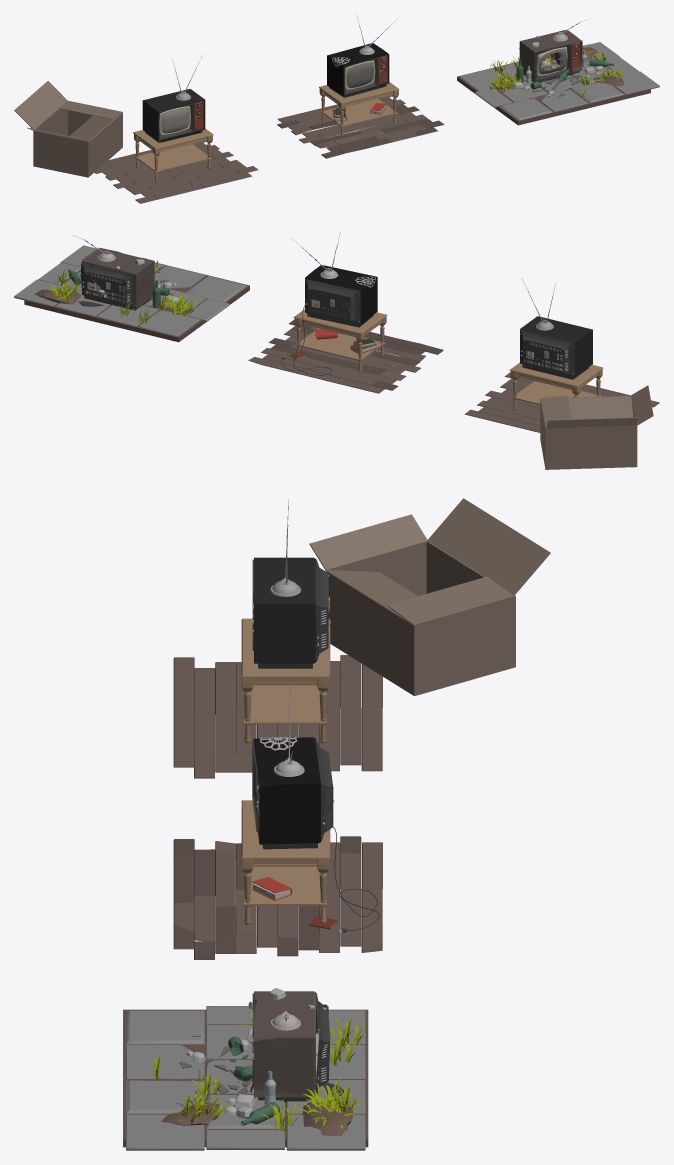
File: tvs.fbx
3 views of the same model, one above another, from view 1: azimuth 30°, elevation 25°; view 2: azimuth 150°, elevation 25°; view 3: azimuth 270°, elevation 25° (orthographic). The views are drawn at different scales.
Visible parts, largest first — view 1: polySurface68, pCube128, pCube240, polySurface27, pPlane1, polySurface63, polySurface91, pCube241, pCube87, pCube263, pCube265, pCube262 (+14 smaller); view 2: polySurface68, pCube128, polySurface27, pCube240, polySurface73, pPlane1, polySurface121, polySurface91, polySurface63, pCube87, pCube253, pCube263 (+13 smaller); view 3: polySurface68, pCube128, pCube240, polySurface27, polySurface63, polySurface91, pCube241, pCube263, pCube264, pCube265, pCube262, pPlane1 (+15 smaller).
Part boxes in pixels (left/top/right/bottom): polySurface68: left=14, top=81, right=122, bottom=177; pCube128: left=277, top=95, right=444, bottom=158; pCube240: left=94, top=141, right=258, bottom=203; polySurface27: left=327, top=14, right=397, bottom=97; pPlane1: left=457, top=44, right=650, bottom=125; polySurface63: left=142, top=89, right=205, bottom=140; polySurface91: left=519, top=29, right=582, bottom=81; pCube241: left=137, top=144, right=207, bottom=171; pCube87: left=323, top=99, right=393, bottom=126; pCube263: left=499, top=97, right=552, bottom=120; pCube265: left=572, top=82, right=624, bottom=102; pCube262: left=541, top=89, right=588, bottom=111; polySurface68: left=540, top=385, right=653, bottom=469; pCube128: left=248, top=319, right=443, bottom=393; polySurface27: left=291, top=232, right=377, bottom=327; pCube240: left=464, top=372, right=659, bottom=432; polySurface73: left=520, top=330, right=574, bottom=376; pPlane1: left=24, top=248, right=249, bottom=342; polySurface121: left=81, top=262, right=135, bottom=307; polySurface91: left=82, top=248, right=154, bottom=308; polySurface63: left=520, top=316, right=592, bottom=376; pCube87: left=300, top=328, right=382, bottom=360; pCube253: left=138, top=310, right=200, bottom=336; pCube263: left=185, top=276, right=247, bottom=302; polySurface68: left=309, top=498, right=550, bottom=696; pCube128: left=173, top=836, right=382, bottom=959; pCube240: left=173, top=655, right=382, bottom=778; polySurface27: left=252, top=681, right=334, bottom=849; polySurface63: left=254, top=557, right=315, bottom=663; polySurface91: left=252, top=991, right=315, bottom=1097; pCube241: left=250, top=685, right=326, bottom=724; pCube263: left=126, top=1010, right=204, bottom=1044; pCube264: left=126, top=1114, right=204, bottom=1150; pCube265: left=126, top=1080, right=204, bottom=1113; pCube262: left=126, top=1045, right=204, bottom=1078; pPlane1: left=123, top=1009, right=368, bottom=1147.
Size of the model in its own units: 61.64 by 11.6 by 20.34.
